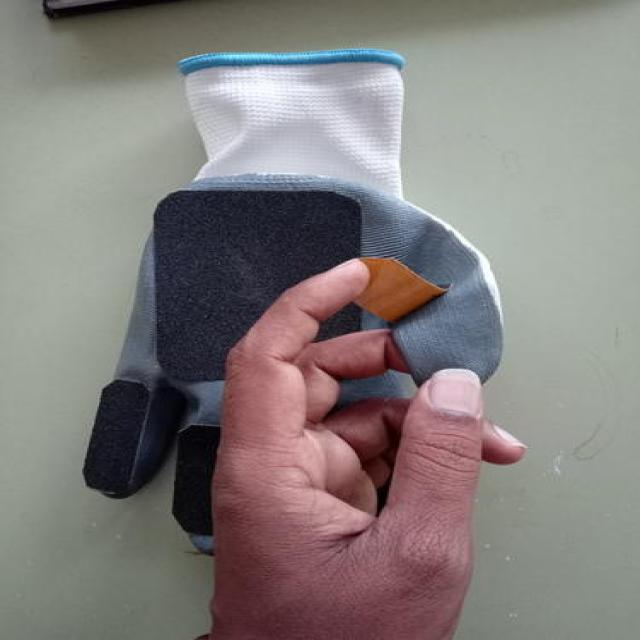gloves: (84, 45, 507, 558)
